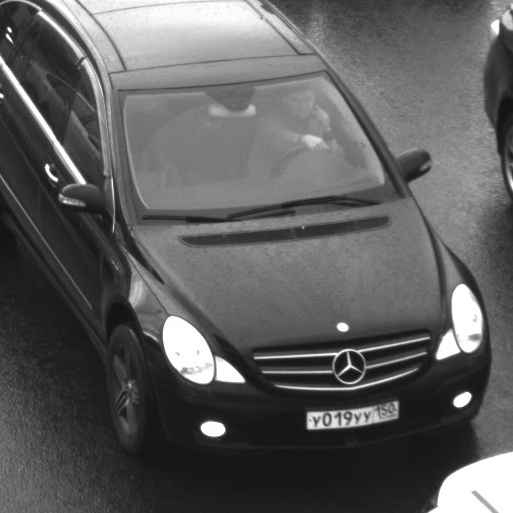plate: (295, 389, 408, 437)
